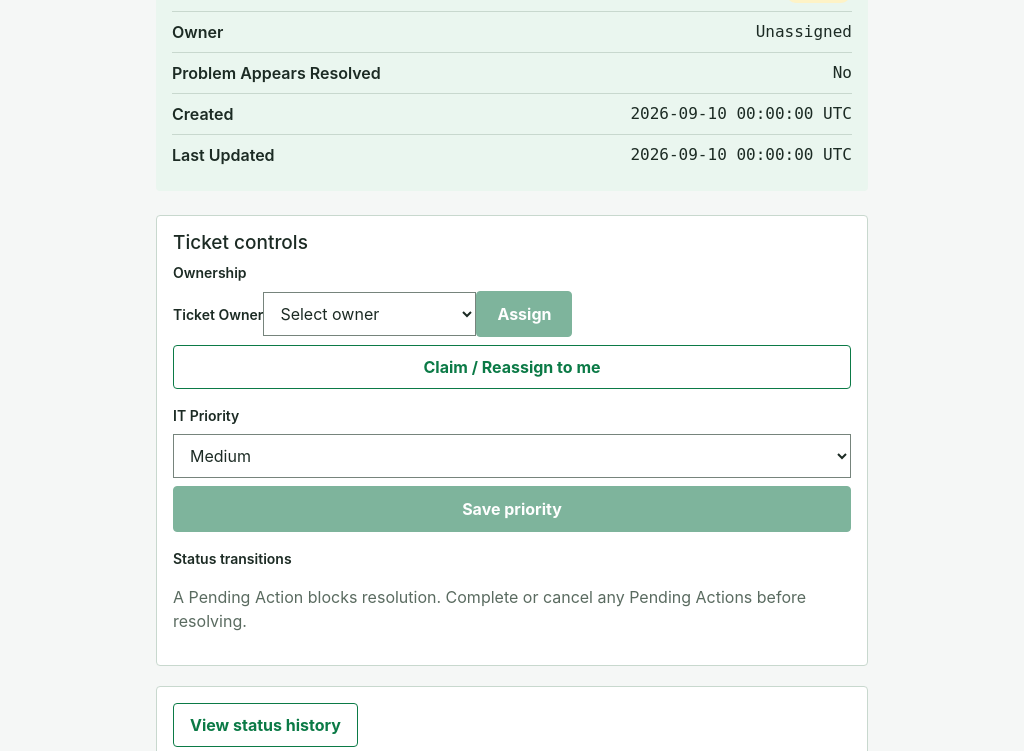
Test case: UI-STAFF-01 — Staff Ticket Detail (AC-11–14) › preserves the successful owner mutation when refresh fails
(page scrolled)
Click the button "Claim / Reassign to me": (512, 367) [173,345,851,389]
(page scrolled)
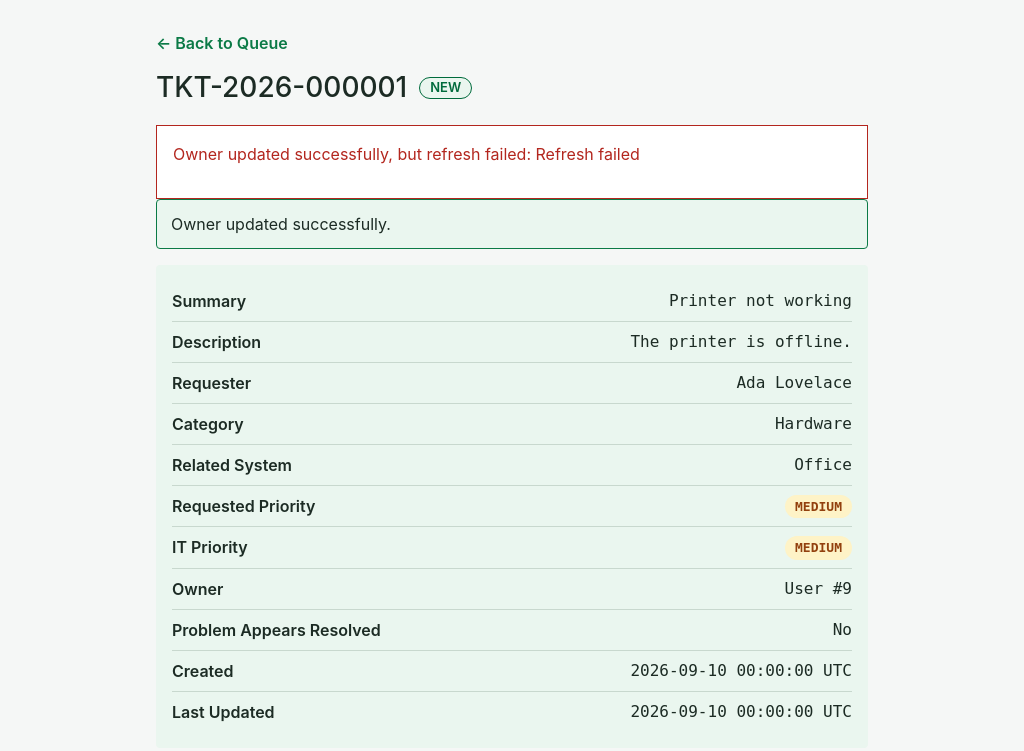
Expected: the text "User #9" is shown, [785,577,852,601]
Expected: the message "Owner updated successfully, but refresh failed: Refresh failed" is shown, [156,125,868,199]
